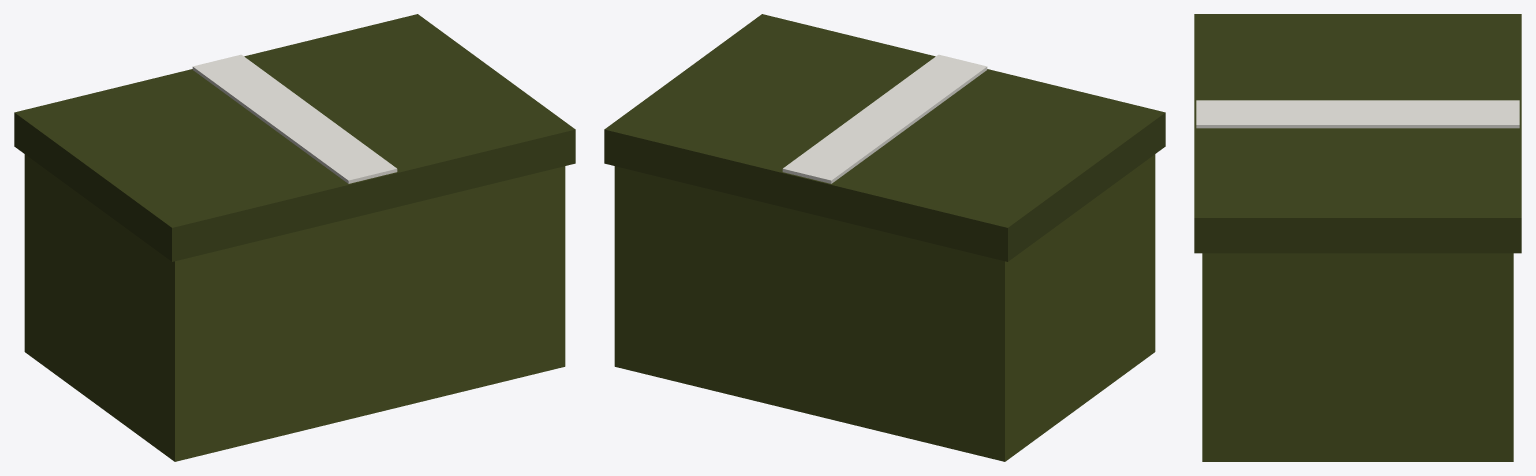
Rendered from ammo_crate.glb.
3 views of the same model, side by side, from view 1: azimuth 30°, elevation 25°; view 2: azimuth 150°, elevation 25°; view 3: azimuth 270°, elevation 25° (orthographic). The views are drawn at different scales.
Visible parts, largest first — view 1: ammo_crate; view 2: ammo_crate; view 3: ammo_crate.
Part boxes in pixels (x1,y1,x2,y2): ammo_crate: (14,14,575,461); ammo_crate: (604,14,1165,461); ammo_crate: (1194,14,1521,461).
Size of the model in its own units: 1.24 by 0.71 by 0.84.
